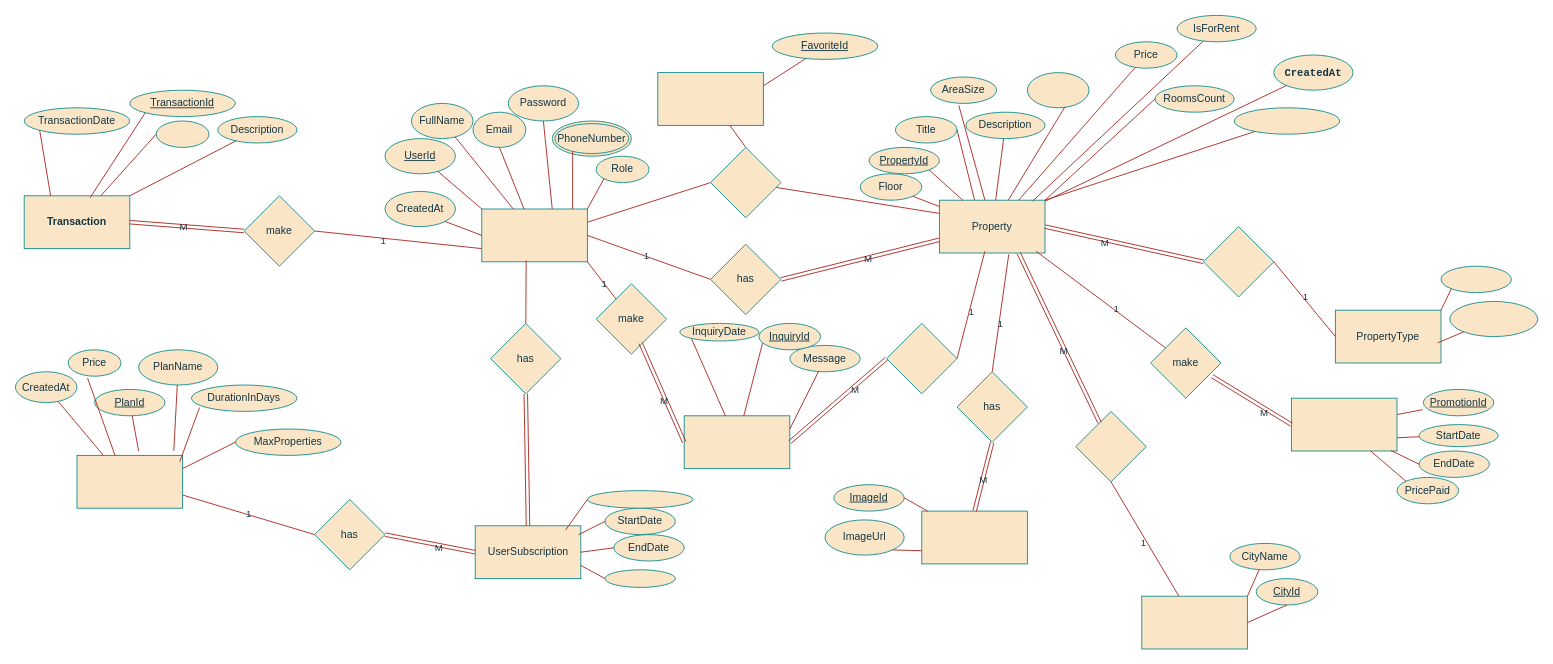
Image size: 1553x664. Some labels were removed from this diagram. Each missing label, with the centre of its shape:
"Address" belongs at (x=1058, y=90).
"Amount" belongs at (x=182, y=133).
"BathroomsCount" belongs at (x=1286, y=120).
"Booking" belongs at (x=736, y=442).
"City" belongs at (x=1194, y=622).
"Favorite" belongs at (x=710, y=98).
"Inquiry" belongs at (x=921, y=358).
"IsActive" belongs at (x=639, y=578).
"kind" belongs at (x=1238, y=261).
"Promotion" belongs at (x=1344, y=424).
"PropertyImage" belongs at (x=974, y=537).
"PropertyTypeId" belongs at (x=1493, y=319).
"put" belongs at (x=745, y=182).
"SubscriptionId" belongs at (x=640, y=499).
"SubscriptionPlan" belongs at (x=129, y=481).
"TypeName" belongs at (x=1475, y=279).
"User" belongs at (x=534, y=235).
"where" belongs at (x=1110, y=446).
